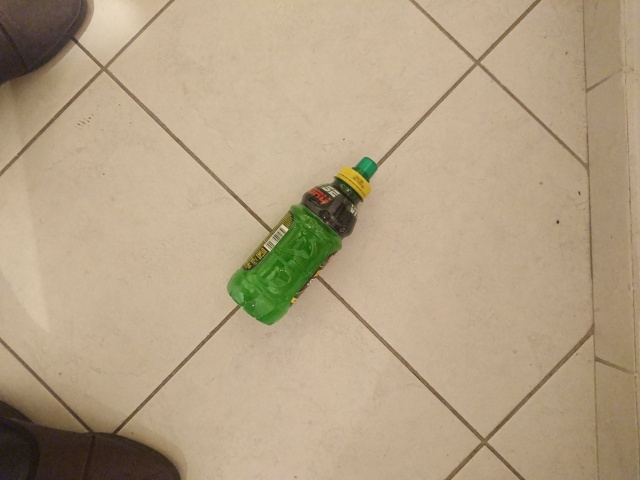Vindi Iso Sport Lemon-Grapefruit 500mL: (224, 154, 380, 328)
